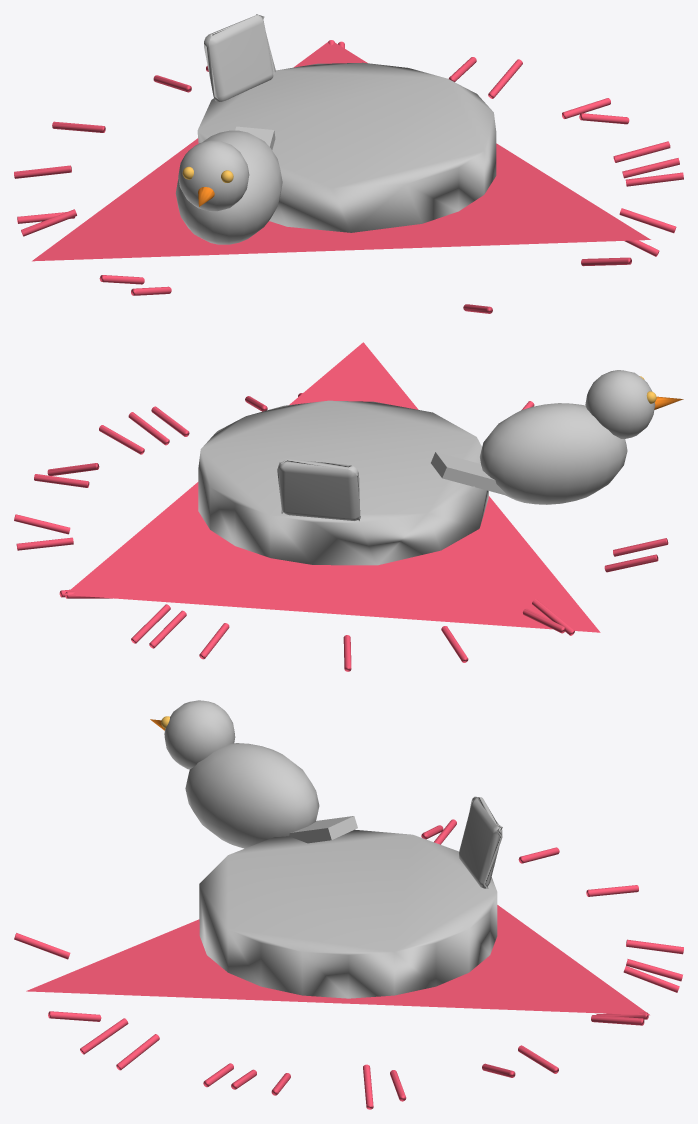
File: ScarecrowHat.obj
3 renders of one model, top to bottom at view 1: azimuth 30°, elevation 25°; view 2: azimuth 150°, elevation 25°; view 3: azimuth 270°, elevation 25°, orthographic. The views are drawn at different scales.
Visible parts, largest first — view 1: Hatband, Straw, Crow, Patch; view 2: Straw, Hatband, Crow, Patch; view 3: Hatband, Straw, Crow, Patch.
Boxes of the visible parts, x1=… form: Hatband: x1=197, y1=62, x2=496, y2=232; Straw: x1=14, y1=40, x2=683, y2=313; Crow: x1=175, y1=126, x2=282, y2=244; Patch: x1=204, y1=14, x2=275, y2=101; Straw: x1=14, y1=342, x2=668, y2=671; Hatband: x1=198, y1=400, x2=488, y2=565; Crow: x1=431, y1=370, x2=655, y2=504; Patch: x1=277, y1=459, x2=360, y2=520; Hatband: x1=199, y1=829, x2=497, y2=998; Straw: x1=14, y1=819, x2=683, y2=1109; Crow: x1=164, y1=700, x2=357, y2=848; Patch: x1=458, y1=796, x2=502, y2=888.
Size of the model in its own units: 2.79 by 0.7876 by 2.79.
